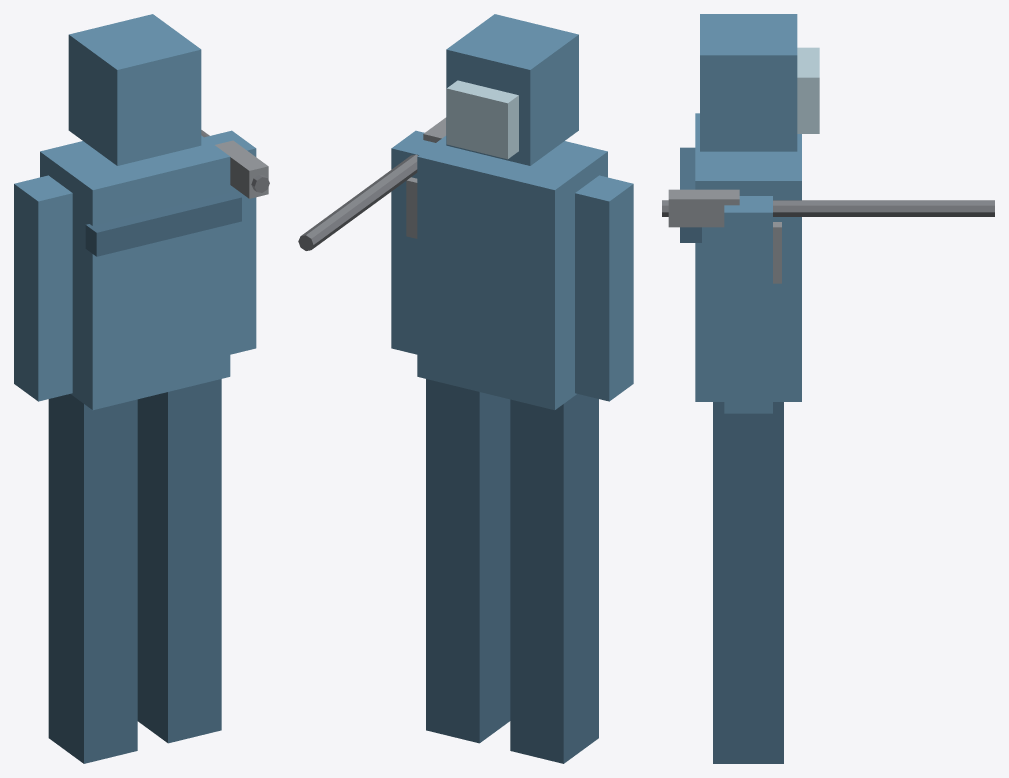
The model's file is scientist.glb.
3 views of the same model, side by side, from view 1: azimuth 30°, elevation 25°; view 2: azimuth 150°, elevation 25°; view 3: azimuth 270°, elevation 25° (orthographic).
Parts seen in each view (by area): view 1: scientist; view 2: scientist; view 3: scientist.
Boxes of the visible parts, x1=… form: scientist: x1=14, y1=14, x2=269, y2=763; scientist: x1=298, y1=14, x2=633, y2=763; scientist: x1=662, y1=14, x2=994, y2=763.
Size of the model in its own units: 0.57 by 1.73 by 0.75.
